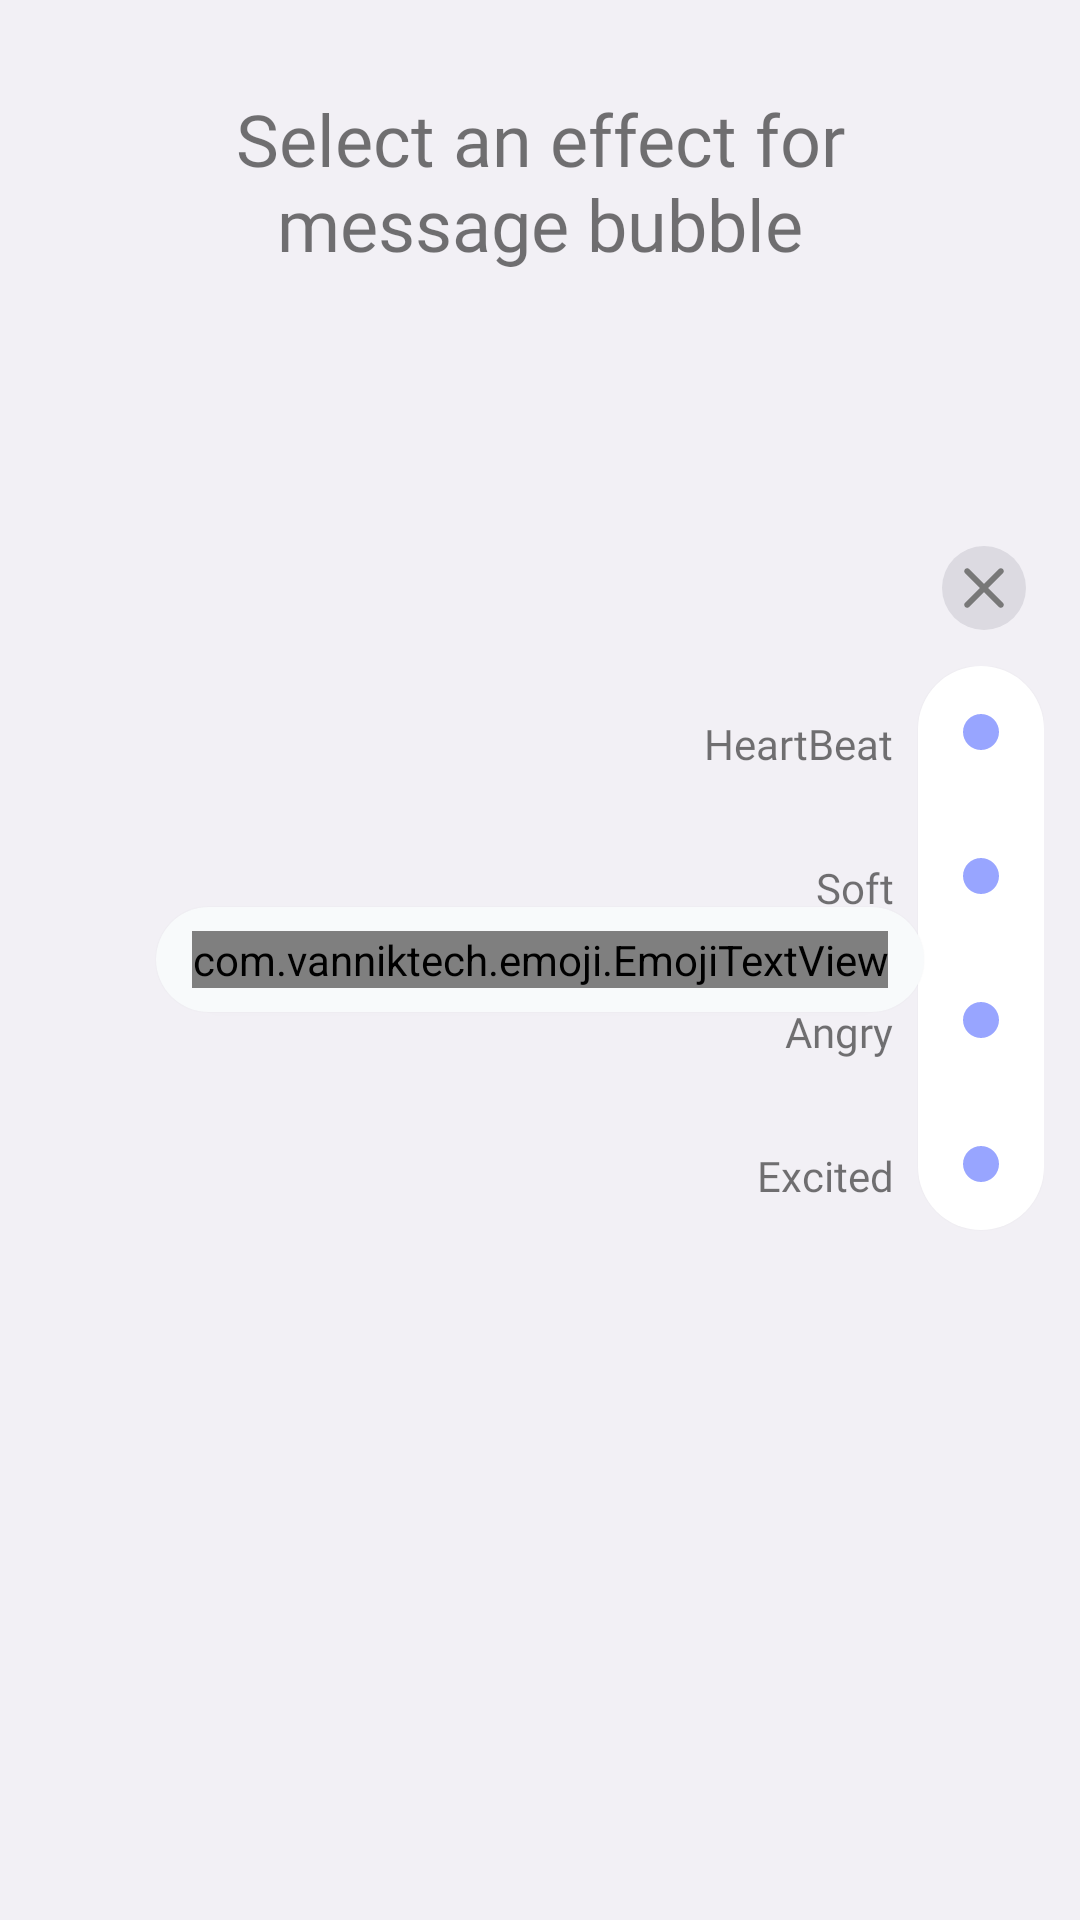

Where icons sit on this 1080*1920 app screen, as bbox(x1, y1, x2, y2):
close: bbox(942, 546, 1026, 630)
